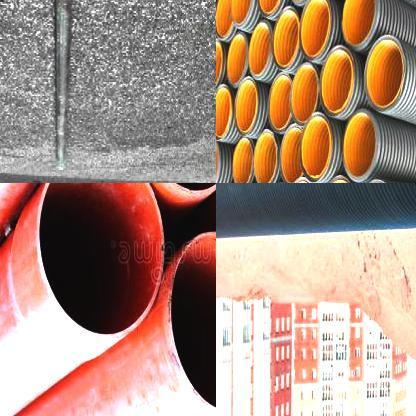pipe: (37, 183, 163, 339), (170, 230, 216, 414), (364, 34, 406, 112), (342, 108, 378, 182), (319, 44, 355, 118), (298, 112, 333, 182), (299, 0, 332, 60), (270, 5, 300, 69), (289, 63, 318, 126), (341, 0, 378, 48), (266, 73, 292, 132), (246, 21, 272, 80), (278, 123, 303, 183), (234, 76, 259, 135), (254, 128, 278, 183), (226, 31, 249, 86), (231, 135, 253, 183), (216, 84, 233, 141), (216, 0, 235, 40), (230, 0, 256, 27), (255, 0, 285, 17), (216, 38, 225, 93)
